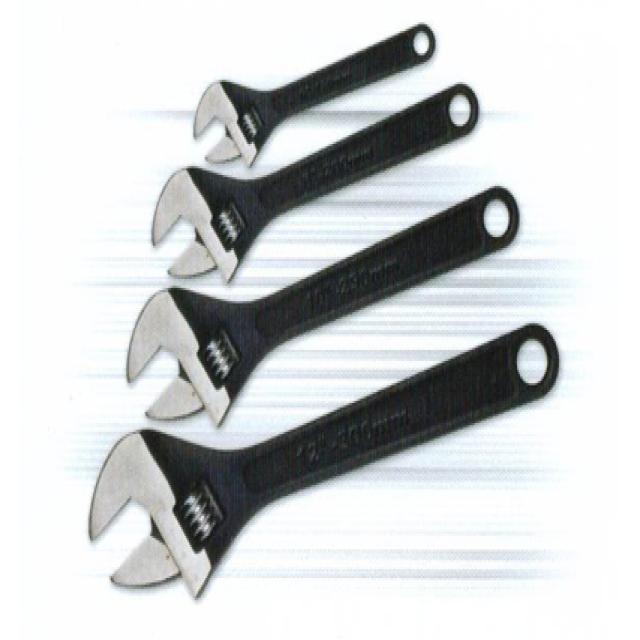wrench: (69, 399, 374, 607), (172, 19, 502, 173)
